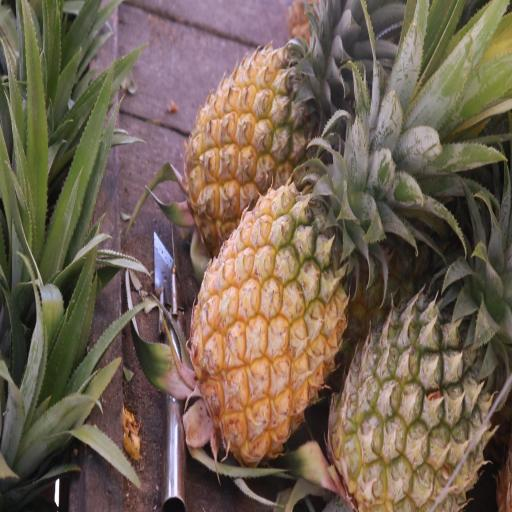Pineapple - v8 v1: (184, 150, 355, 465), (176, 0, 342, 277)
